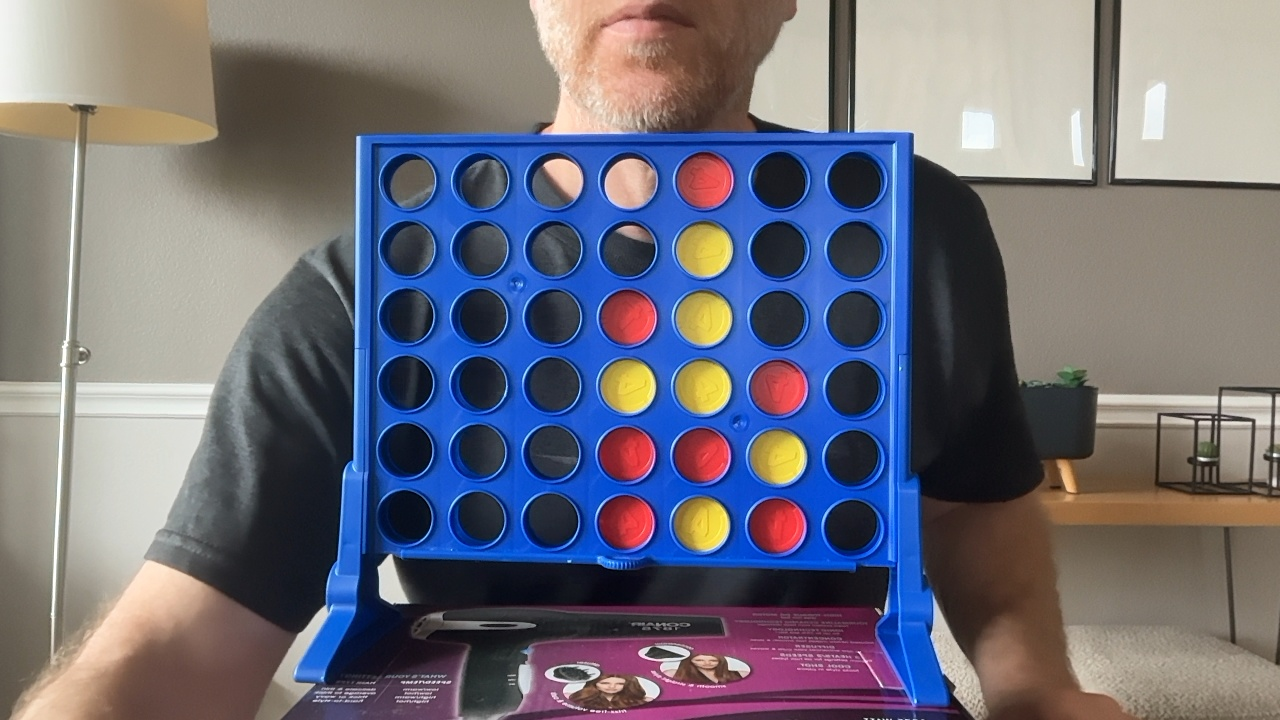red piece: (676, 152, 733, 209), (600, 290, 656, 346), (673, 428, 730, 483), (750, 360, 807, 415), (748, 498, 805, 553), (598, 427, 655, 481), (598, 496, 655, 550)
yellow piece: (675, 290, 732, 347), (676, 222, 733, 278), (674, 359, 731, 415), (673, 496, 729, 552), (600, 358, 656, 414), (749, 429, 806, 484)
